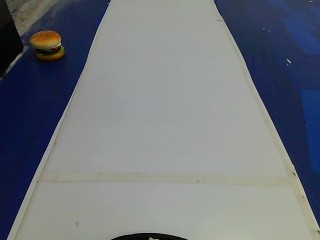burger: (19, 28, 68, 65)
